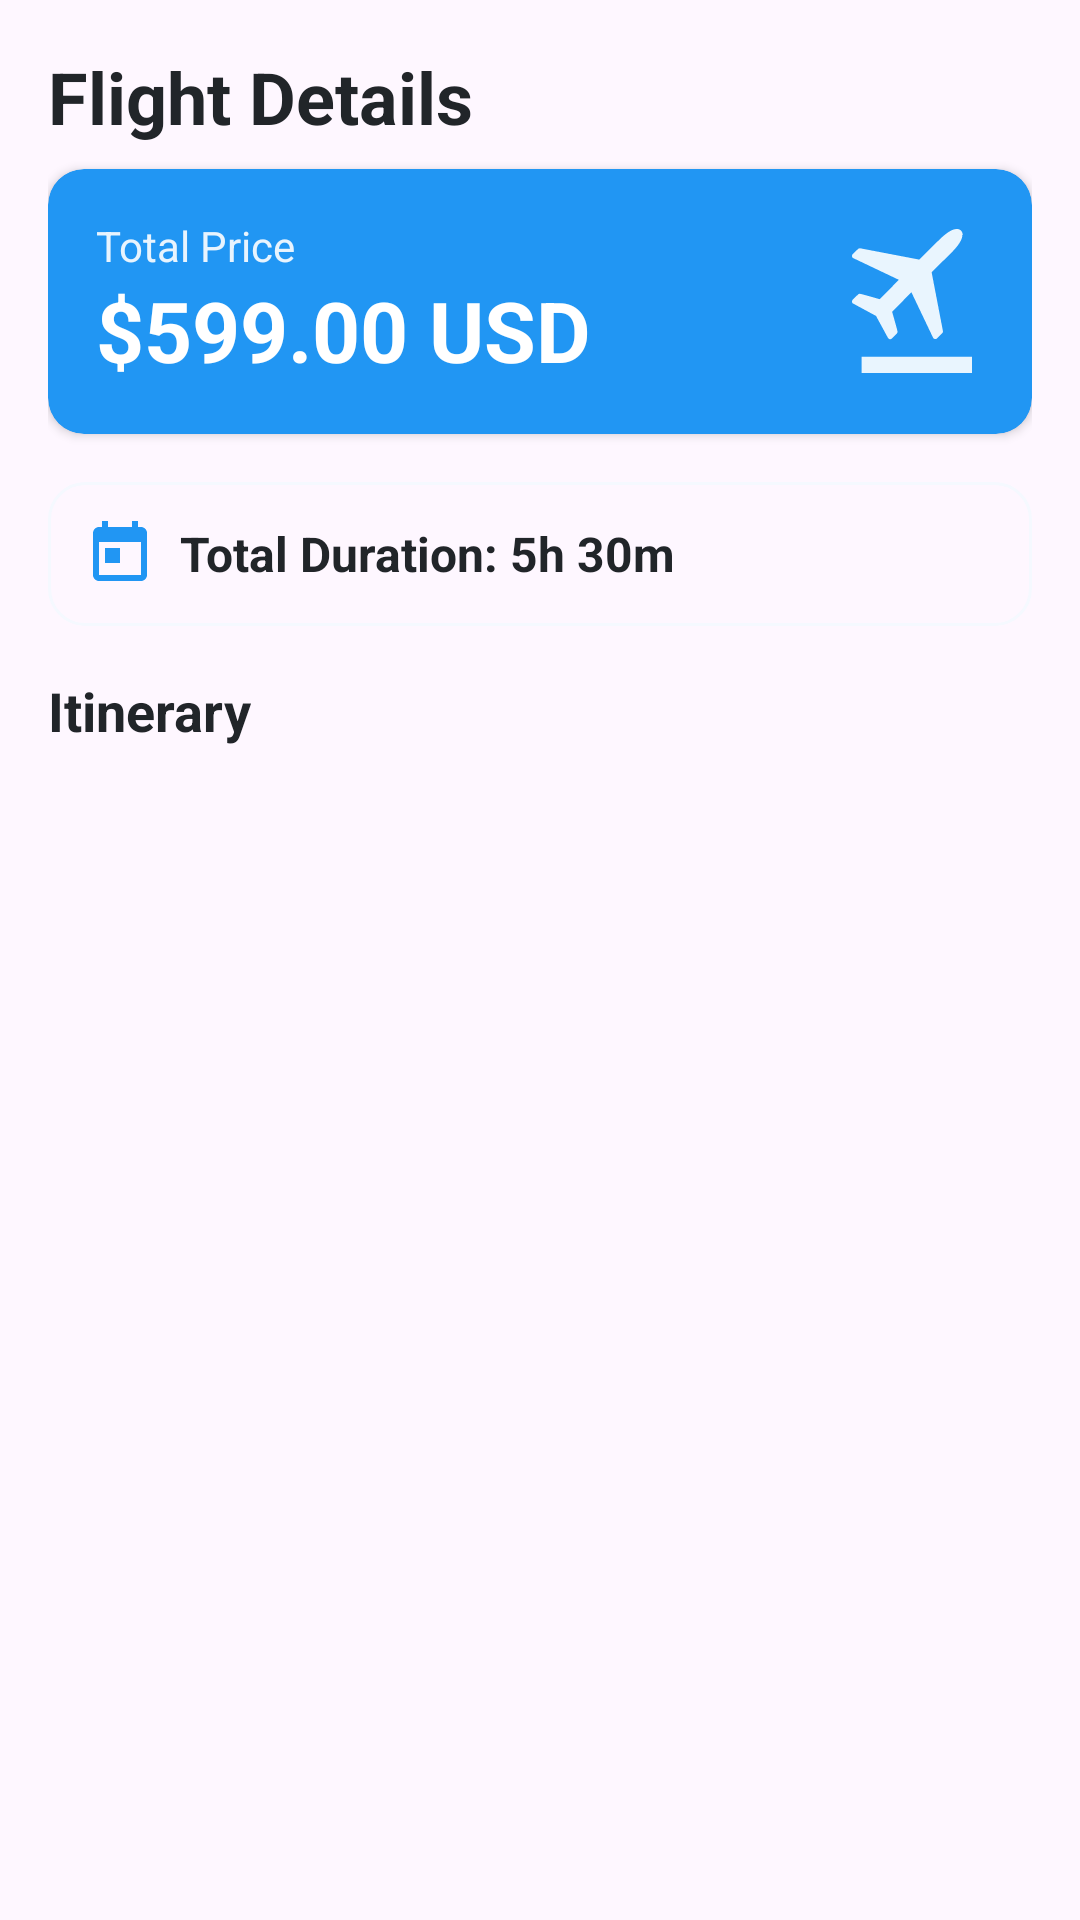

Point at icon controls on the screen. Image size 1080x1920, points as (x,y).
calendar: (120,551)
flight takeoff: (912,301)
